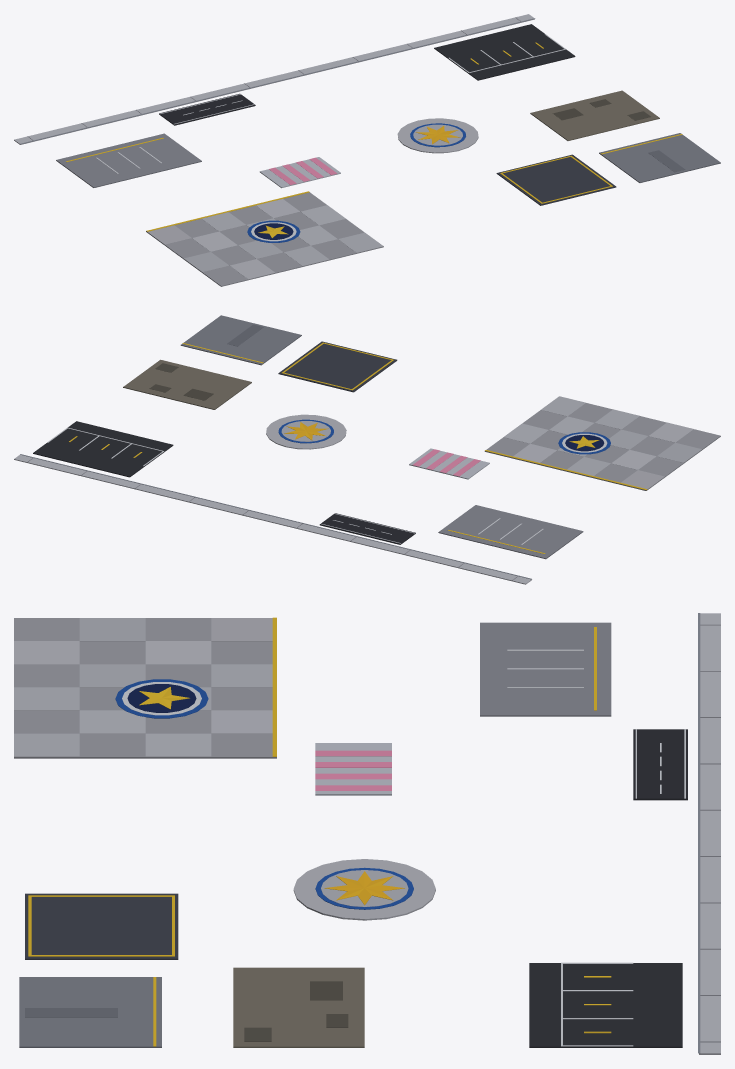
Rendered from Decor_PoliceStation_Floor.fbx.
3 renders of one model, top to bottom at view 1: azimuth 30°, elevation 25°; view 2: azimuth 150°, elevation 25°; view 3: azimuth 270°, elevation 25°, orthographic. The views are drawn at different scales.
Visible parts, largest first — view 1: Floor_Body; view 2: Floor_Body; view 3: Floor_Body.
Part boxes in pixels (bbox=[...]): Floor_Body: bbox=[14, 14, 720, 286]; Floor_Body: bbox=[14, 315, 720, 584]; Floor_Body: bbox=[14, 613, 720, 1054].
Size of the model in its own units: 190 by 0.52 by 129.
